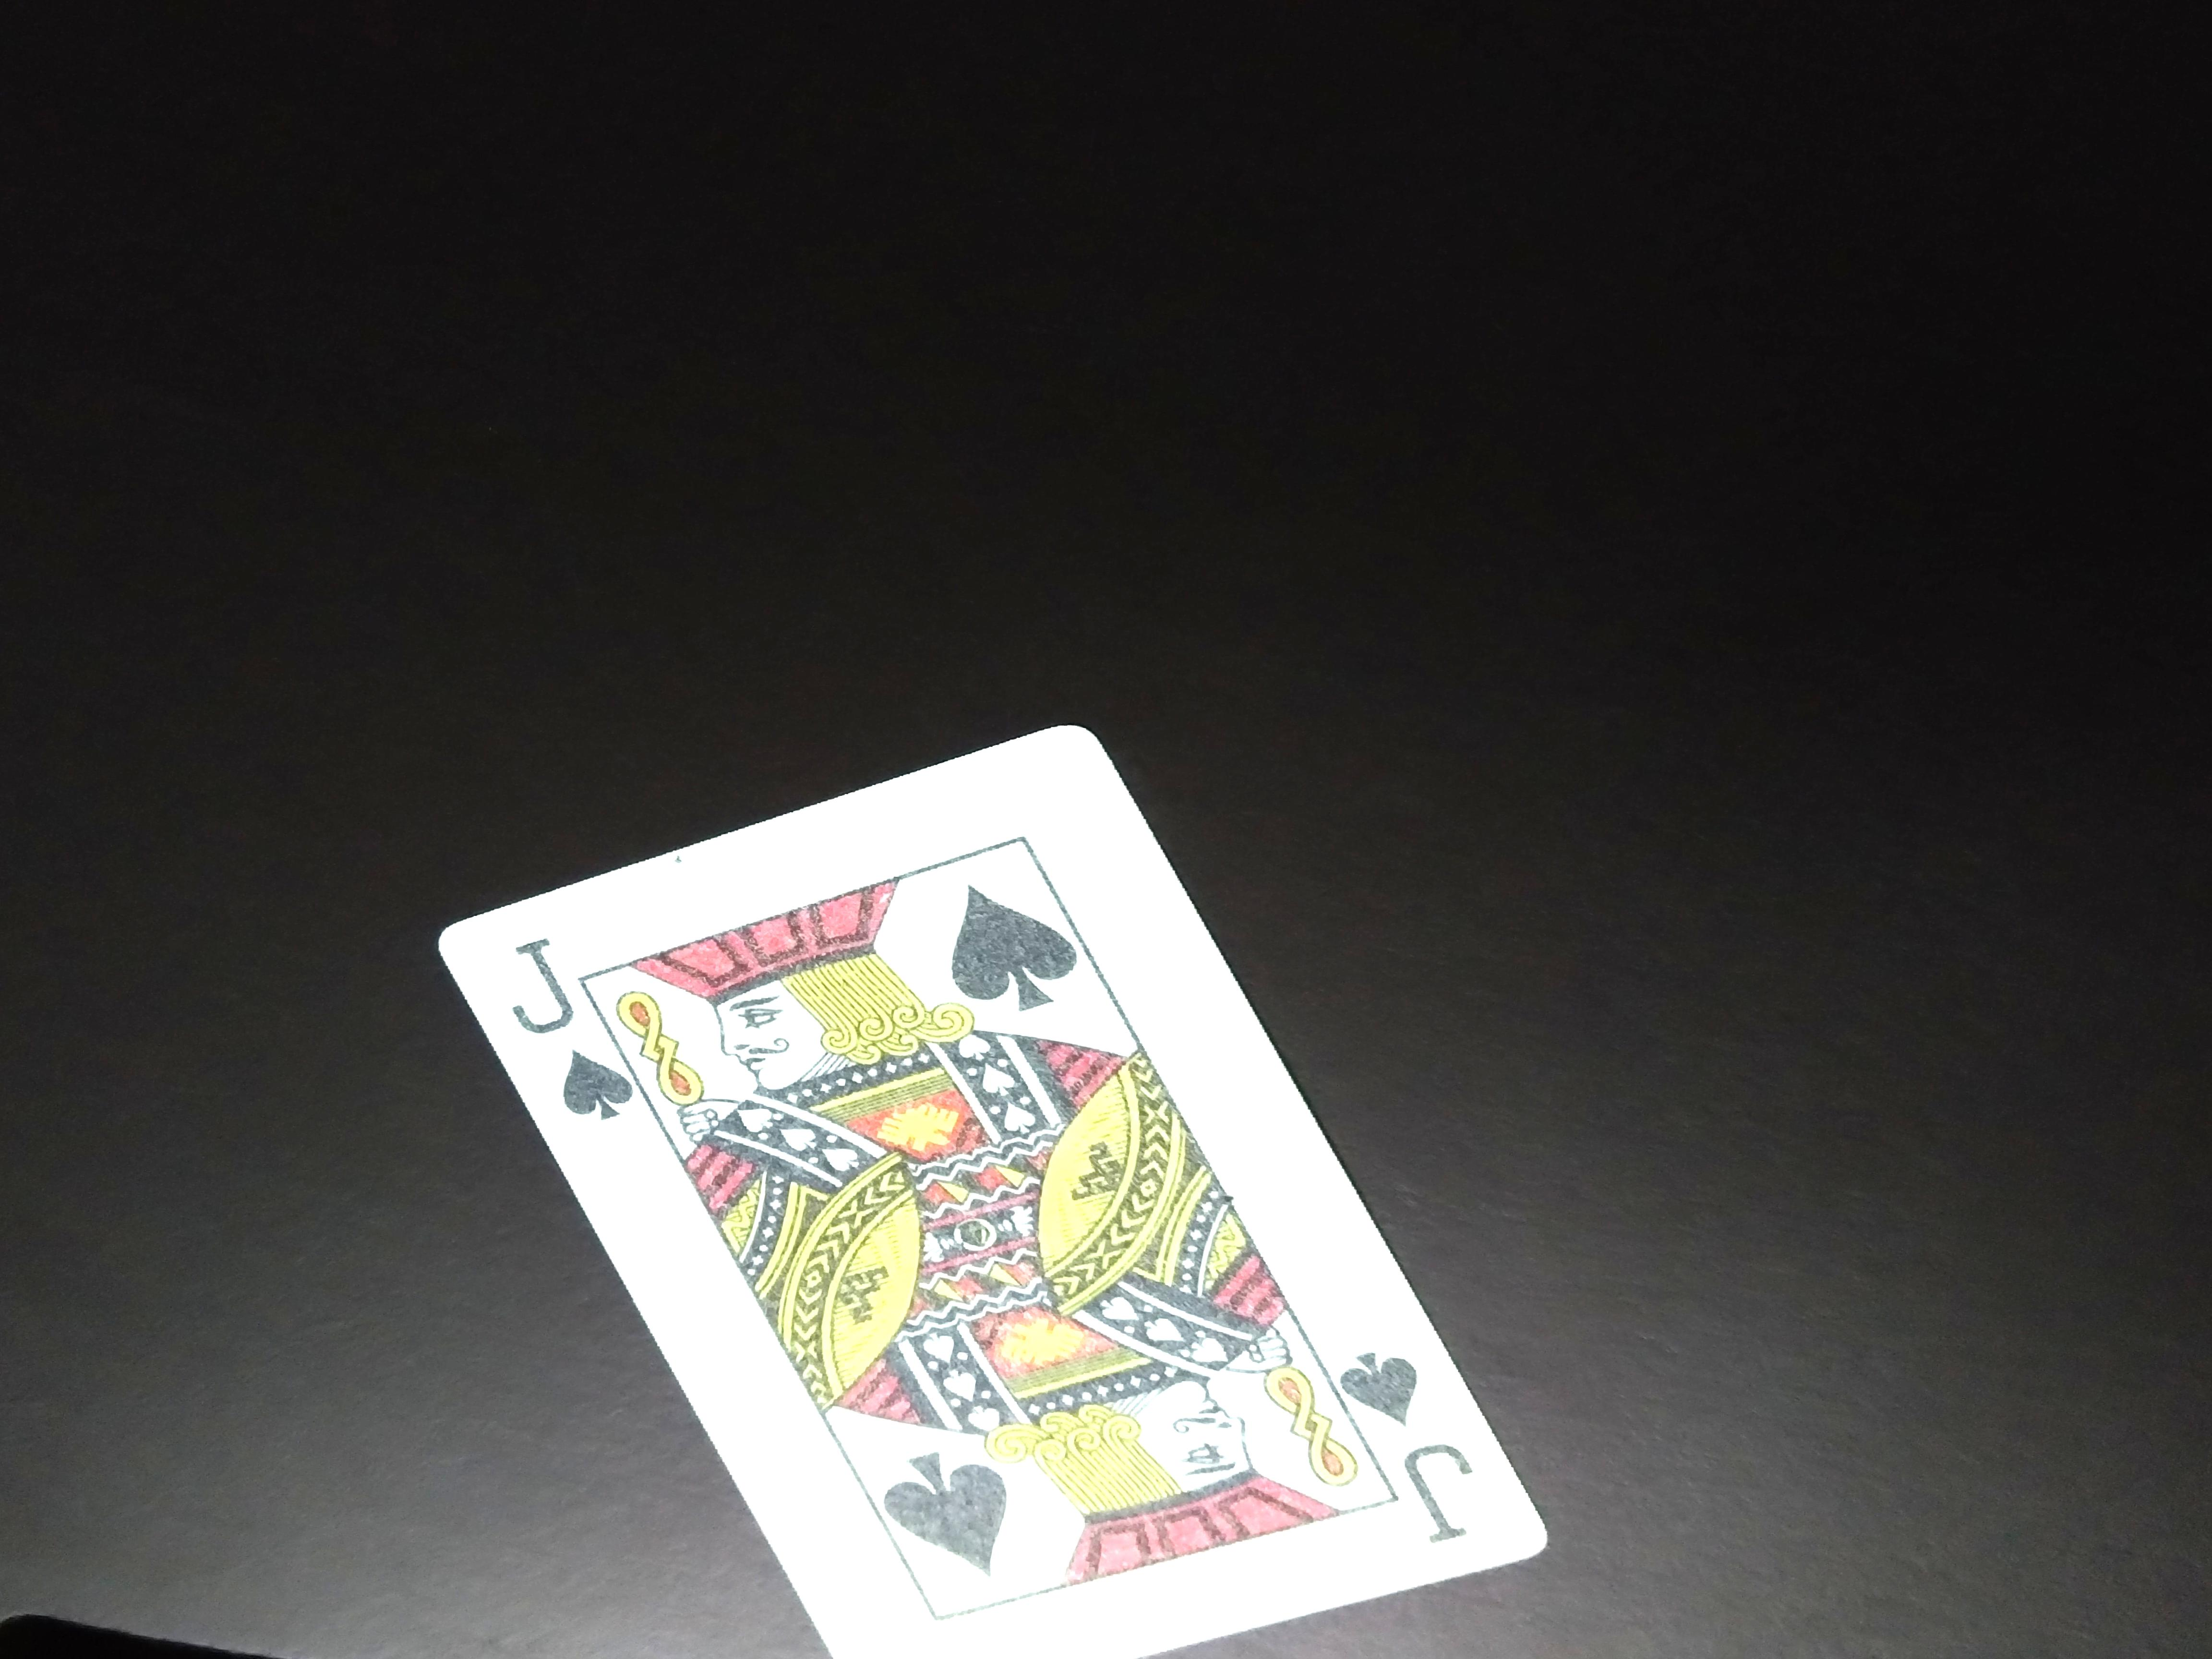JS: (503, 927, 629, 1133)
